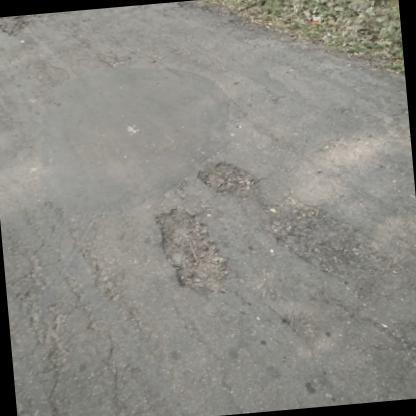pothole: (278, 200, 364, 278), (158, 211, 236, 294), (200, 158, 257, 199)
